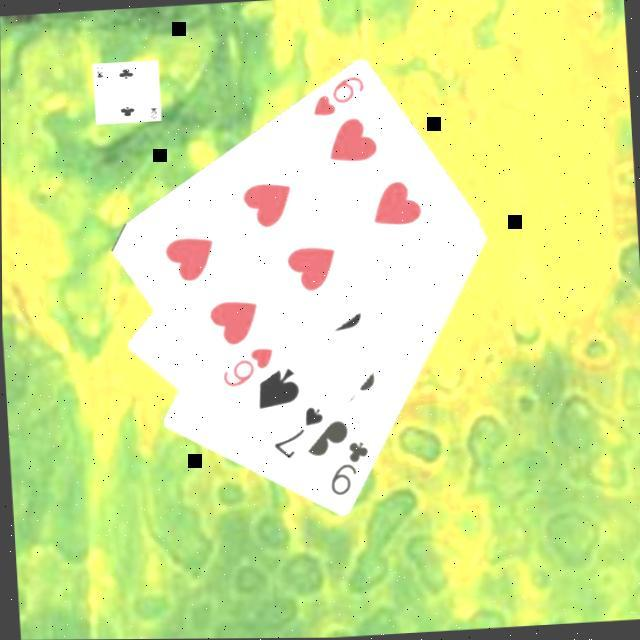6H: (306, 72, 368, 120), (216, 343, 276, 391)
7S: (266, 402, 327, 463)
9C: (323, 437, 373, 499)
